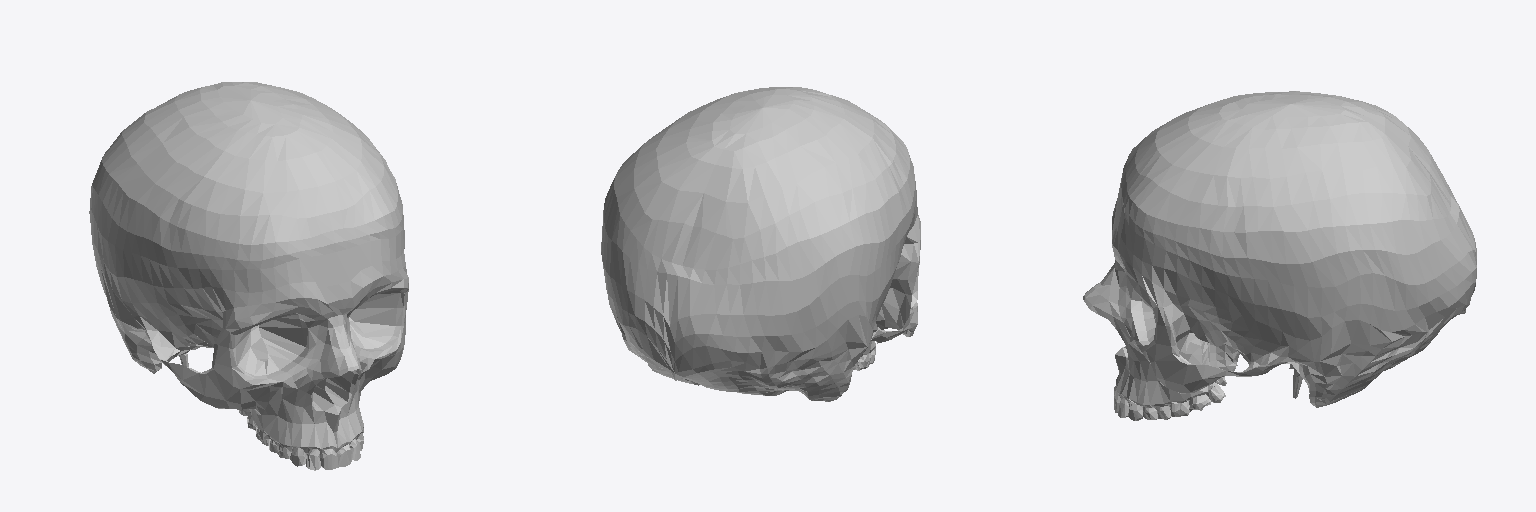
File: skull2.obj
The picture shows the model from 3 angles: view 1: azimuth 30°, elevation 25°; view 2: azimuth 150°, elevation 25°; view 3: azimuth 270°, elevation 25°; orthographic projection.
Visible parts, largest first — view 1: skull, teeth; view 2: skull; view 3: skull, teeth.
Part boxes in pixels (bbox=[...]): skull: bbox=[89, 82, 408, 456]; teeth: bbox=[239, 409, 363, 470]; skull: bbox=[601, 87, 920, 401]; skull: bbox=[1083, 91, 1476, 407]; teeth: bbox=[1114, 385, 1225, 420].
Size of the model in its own units: 5.37 by 6.11 by 7.19.